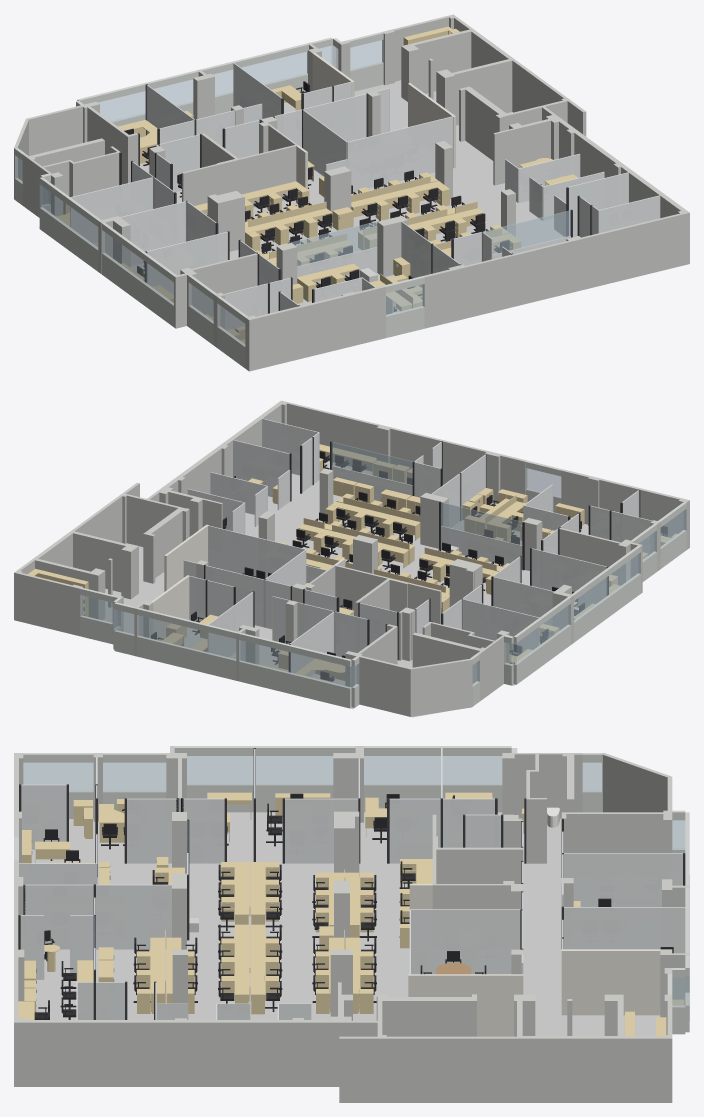
File: 14-melamine-furniture.glb
3 renders of one model, top to bottom at view 1: azimuth 30°, elevation 25°; view 2: azimuth 150°, elevation 25°; view 3: azimuth 270°, elevation 25°, orthographic. The views are drawn at different scales.
Parts seen in each view (by area): view 1: Floor4_14-melamine-furniture_concrete_Blocking, Floor4_14-melamine-furniture_frosted_Blocking, Floor4_14-melamine-furniture_melamine_Decor, Floor4_14-melamine-furniture_glass_Blocking, Floor4_14-melamine-furniture_wall_Blocking, Floor4_14-melamine-furniture_Floor, Floor4_14-melamine-furniture_partition_Blocking, Floor4_14-melamine-furniture_aluminum_Blocking; view 2: Floor4_14-melamine-furniture_concrete_Blocking, Floor4_14-melamine-furniture_frosted_Blocking, Floor4_14-melamine-furniture_wall_Blocking, Floor4_14-melamine-furniture_glass_Blocking, Floor4_14-melamine-furniture_melamine_Decor, Floor4_14-melamine-furniture_Floor, Floor4_14-melamine-furniture_partition_Blocking, Floor4_14-melamine-furniture_aluminum_Blocking; view 3: Floor4_14-melamine-furniture_concrete_Blocking, Floor4_14-melamine-furniture_frosted_Blocking, Floor4_14-melamine-furniture_Floor, Floor4_14-melamine-furniture_melamine_Decor, Floor4_14-melamine-furniture_glass_Blocking, Floor4_14-melamine-furniture_wall_Blocking, Floor4_14-melamine-furniture_partition_Blocking, Floor4_14-melamine-furniture_aluminum_Blocking.
Part boxes in pixels (x1=…): Floor4_14-melamine-furniture_concrete_Blocking: x1=14, y1=14, x2=689, y2=371; Floor4_14-melamine-furniture_frosted_Blocking: x1=70, y1=63, x2=660, y2=329; Floor4_14-melamine-furniture_melamine_Decor: x1=56, y1=26, x2=577, y2=343; Floor4_14-melamine-furniture_glass_Blocking: x1=15, y1=40, x2=570, y2=346; Floor4_14-melamine-furniture_wall_Blocking: x1=15, y1=32, x2=424, y2=368; Floor4_14-melamine-furniture_Floor: x1=39, y1=80, x2=563, y2=317; Floor4_14-melamine-furniture_partition_Blocking: x1=296, y1=53, x2=455, y2=189; Floor4_14-melamine-furniture_aluminum_Blocking: x1=119, y1=84, x2=592, y2=313; Floor4_14-melamine-furniture_concrete_Blocking: x1=14, y1=400, x2=689, y2=716; Floor4_14-melamine-furniture_frosted_Blocking: x1=183, y1=418, x2=652, y2=676; Floor4_14-melamine-furniture_wall_Blocking: x1=80, y1=460, x2=686, y2=708; Floor4_14-melamine-furniture_glass_Blocking: x1=80, y1=442, x2=686, y2=688; Floor4_14-melamine-furniture_melamine_Decor: x1=28, y1=444, x2=676, y2=682; Floor4_14-melamine-furniture_Floor: x1=103, y1=461, x2=588, y2=717; Floor4_14-melamine-furniture_partition_Blocking: x1=151, y1=524, x2=345, y2=640; Floor4_14-melamine-furniture_aluminum_Blocking: x1=204, y1=437, x2=640, y2=672; Floor4_14-melamine-furniture_concrete_Blocking: x1=14, y1=746, x2=689, y2=1102; Floor4_14-melamine-furniture_frosted_Blocking: x1=19, y1=748, x2=685, y2=1019; Floor4_14-melamine-furniture_Floor: x1=31, y1=812, x2=689, y2=1036; Floor4_14-melamine-furniture_melamine_Decor: x1=18, y1=792, x2=683, y2=1036; Floor4_14-melamine-furniture_glass_Blocking: x1=23, y1=756, x2=689, y2=1007; Floor4_14-melamine-furniture_wall_Blocking: x1=14, y1=746, x2=689, y2=1034; Floor4_14-melamine-furniture_partition_Blocking: x1=408, y1=884, x2=660, y2=1036; Floor4_14-melamine-furniture_aluminum_Blocking: x1=18, y1=748, x2=685, y2=1019.
Size of the model in its own units: 23.41 by 2.4 by 22.85.
